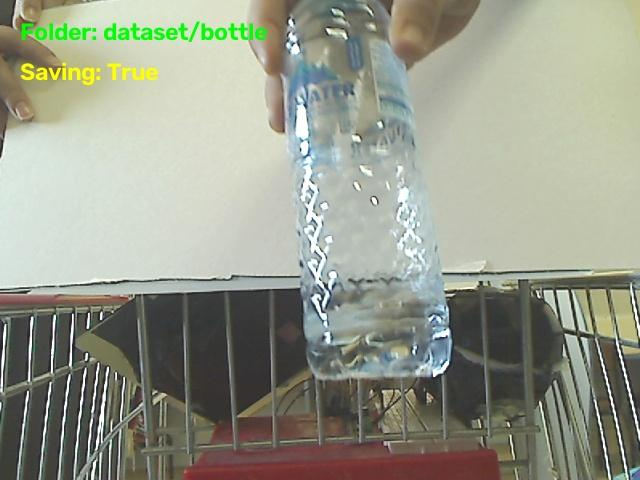Bottle: (285, 0, 451, 380)
